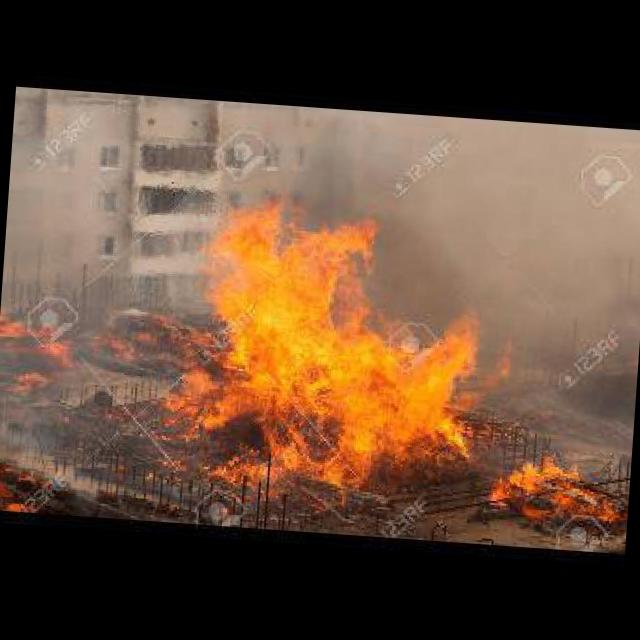Fire: (170, 179, 491, 509), (483, 450, 629, 544), (0, 453, 40, 510)
